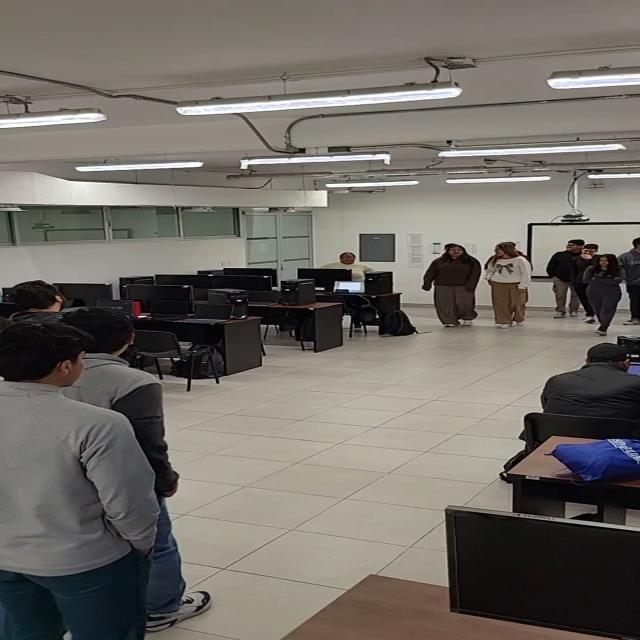Persona: (52, 304, 215, 633), (3, 318, 162, 640), (422, 244, 481, 328), (483, 242, 533, 329), (579, 254, 628, 336), (8, 278, 70, 332), (546, 239, 582, 318), (611, 233, 640, 326), (572, 244, 603, 321)
